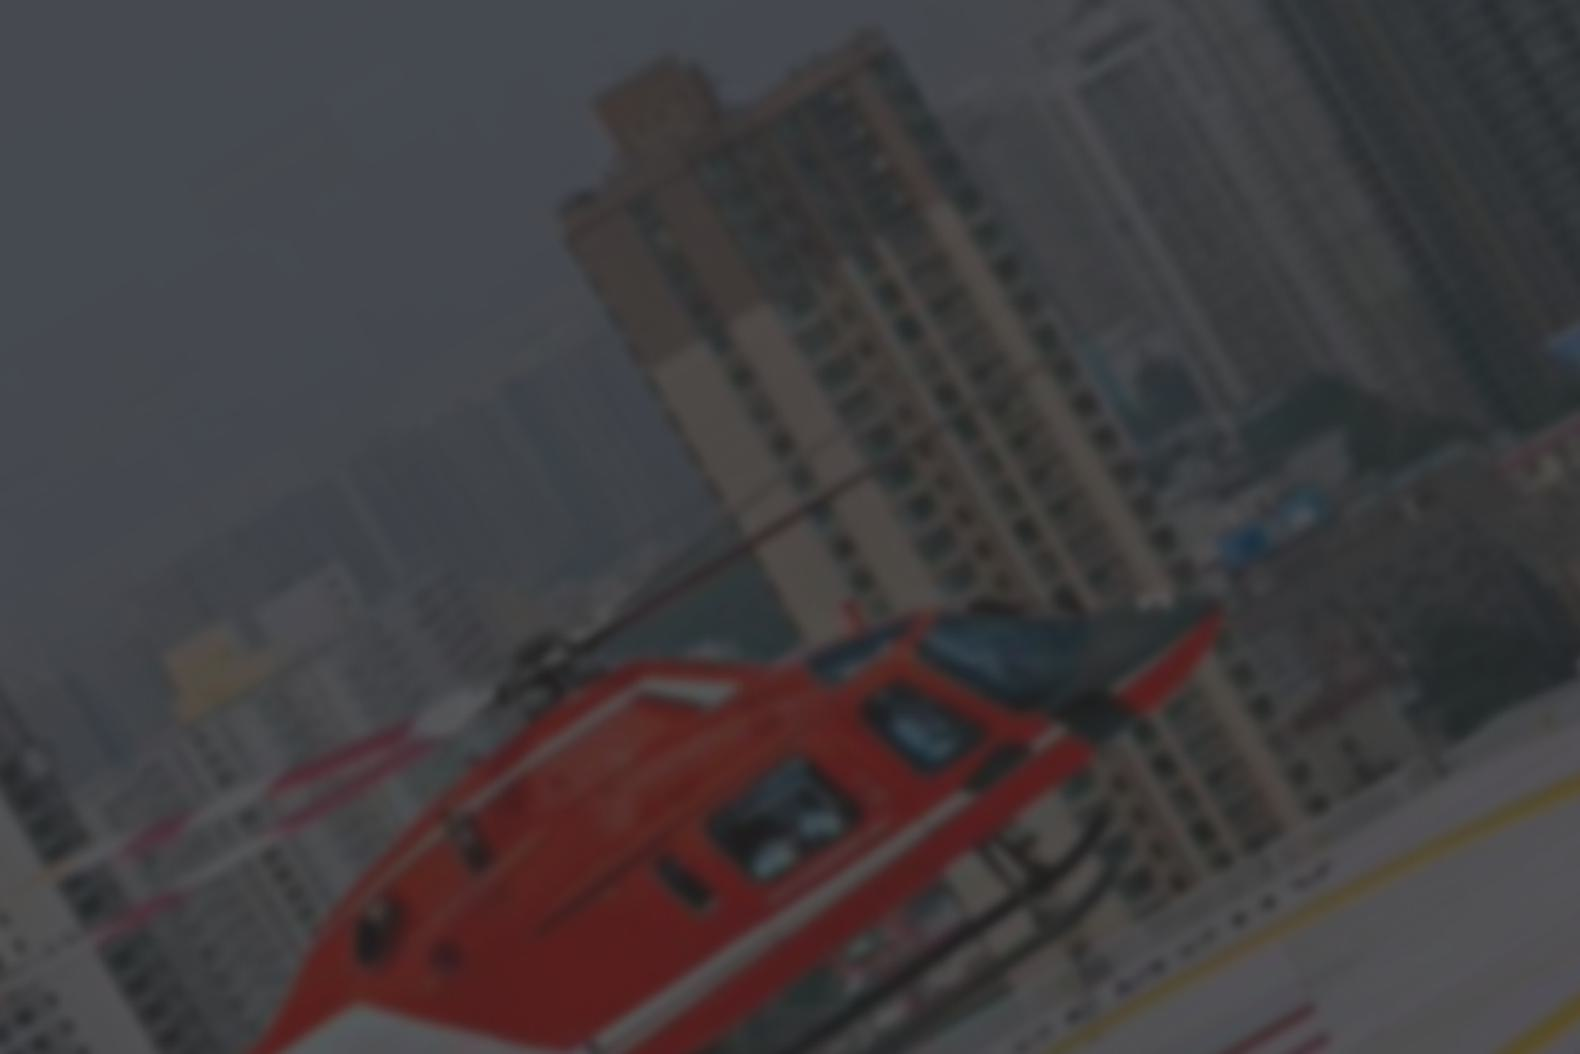Apron: (889, 763, 1580, 1054)
